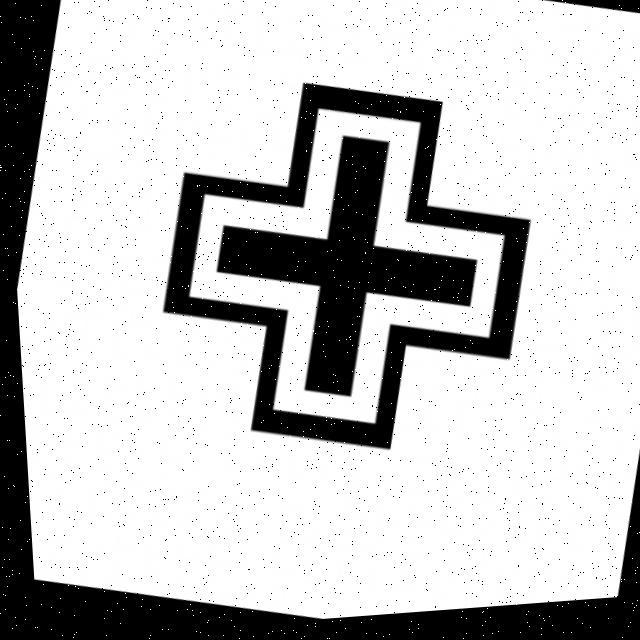cross: (155, 64, 540, 470)
